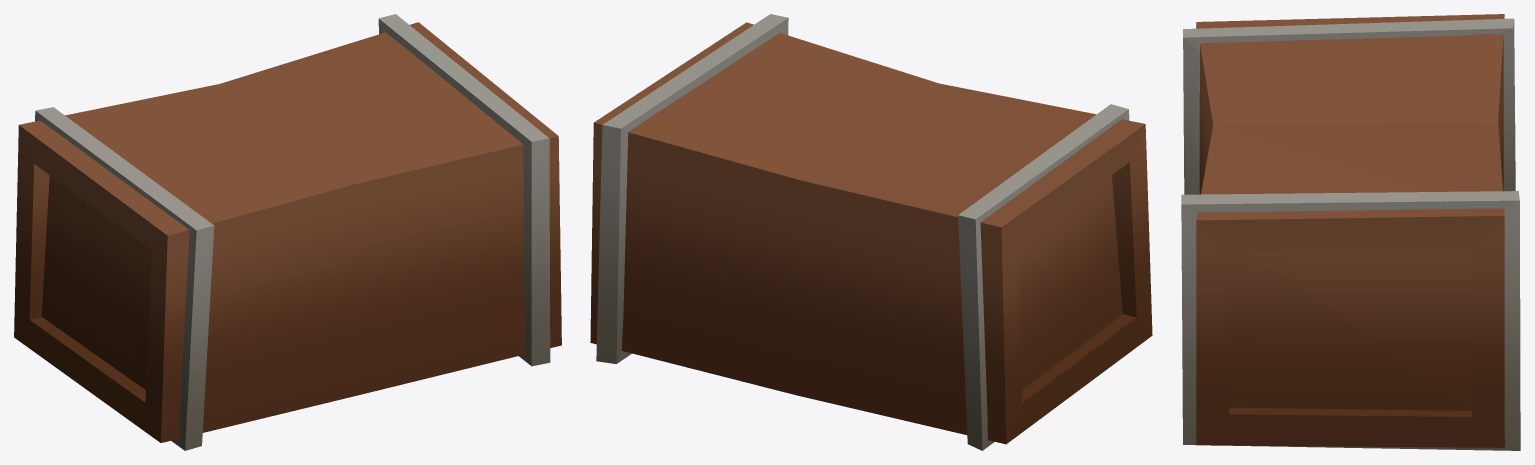
File: crate1.glb
The picture shows the model from 3 angles, left to right: view 1: azimuth 30°, elevation 25°; view 2: azimuth 150°, elevation 25°; view 3: azimuth 270°, elevation 25°; orthographic projection. The views are drawn at different scales.
Visible parts, largest first — view 1: crate1; view 2: crate1; view 3: crate1.
Boxes of the visible parts, box(x1,y1,x2,y2) form: crate1: box(14, 14, 561, 450); crate1: box(590, 14, 1152, 450); crate1: box(1181, 14, 1520, 450).
Size of the model in its own units: 0.786 by 0.4294 by 0.5327.
Materials: 1 (1 with a texture image).
